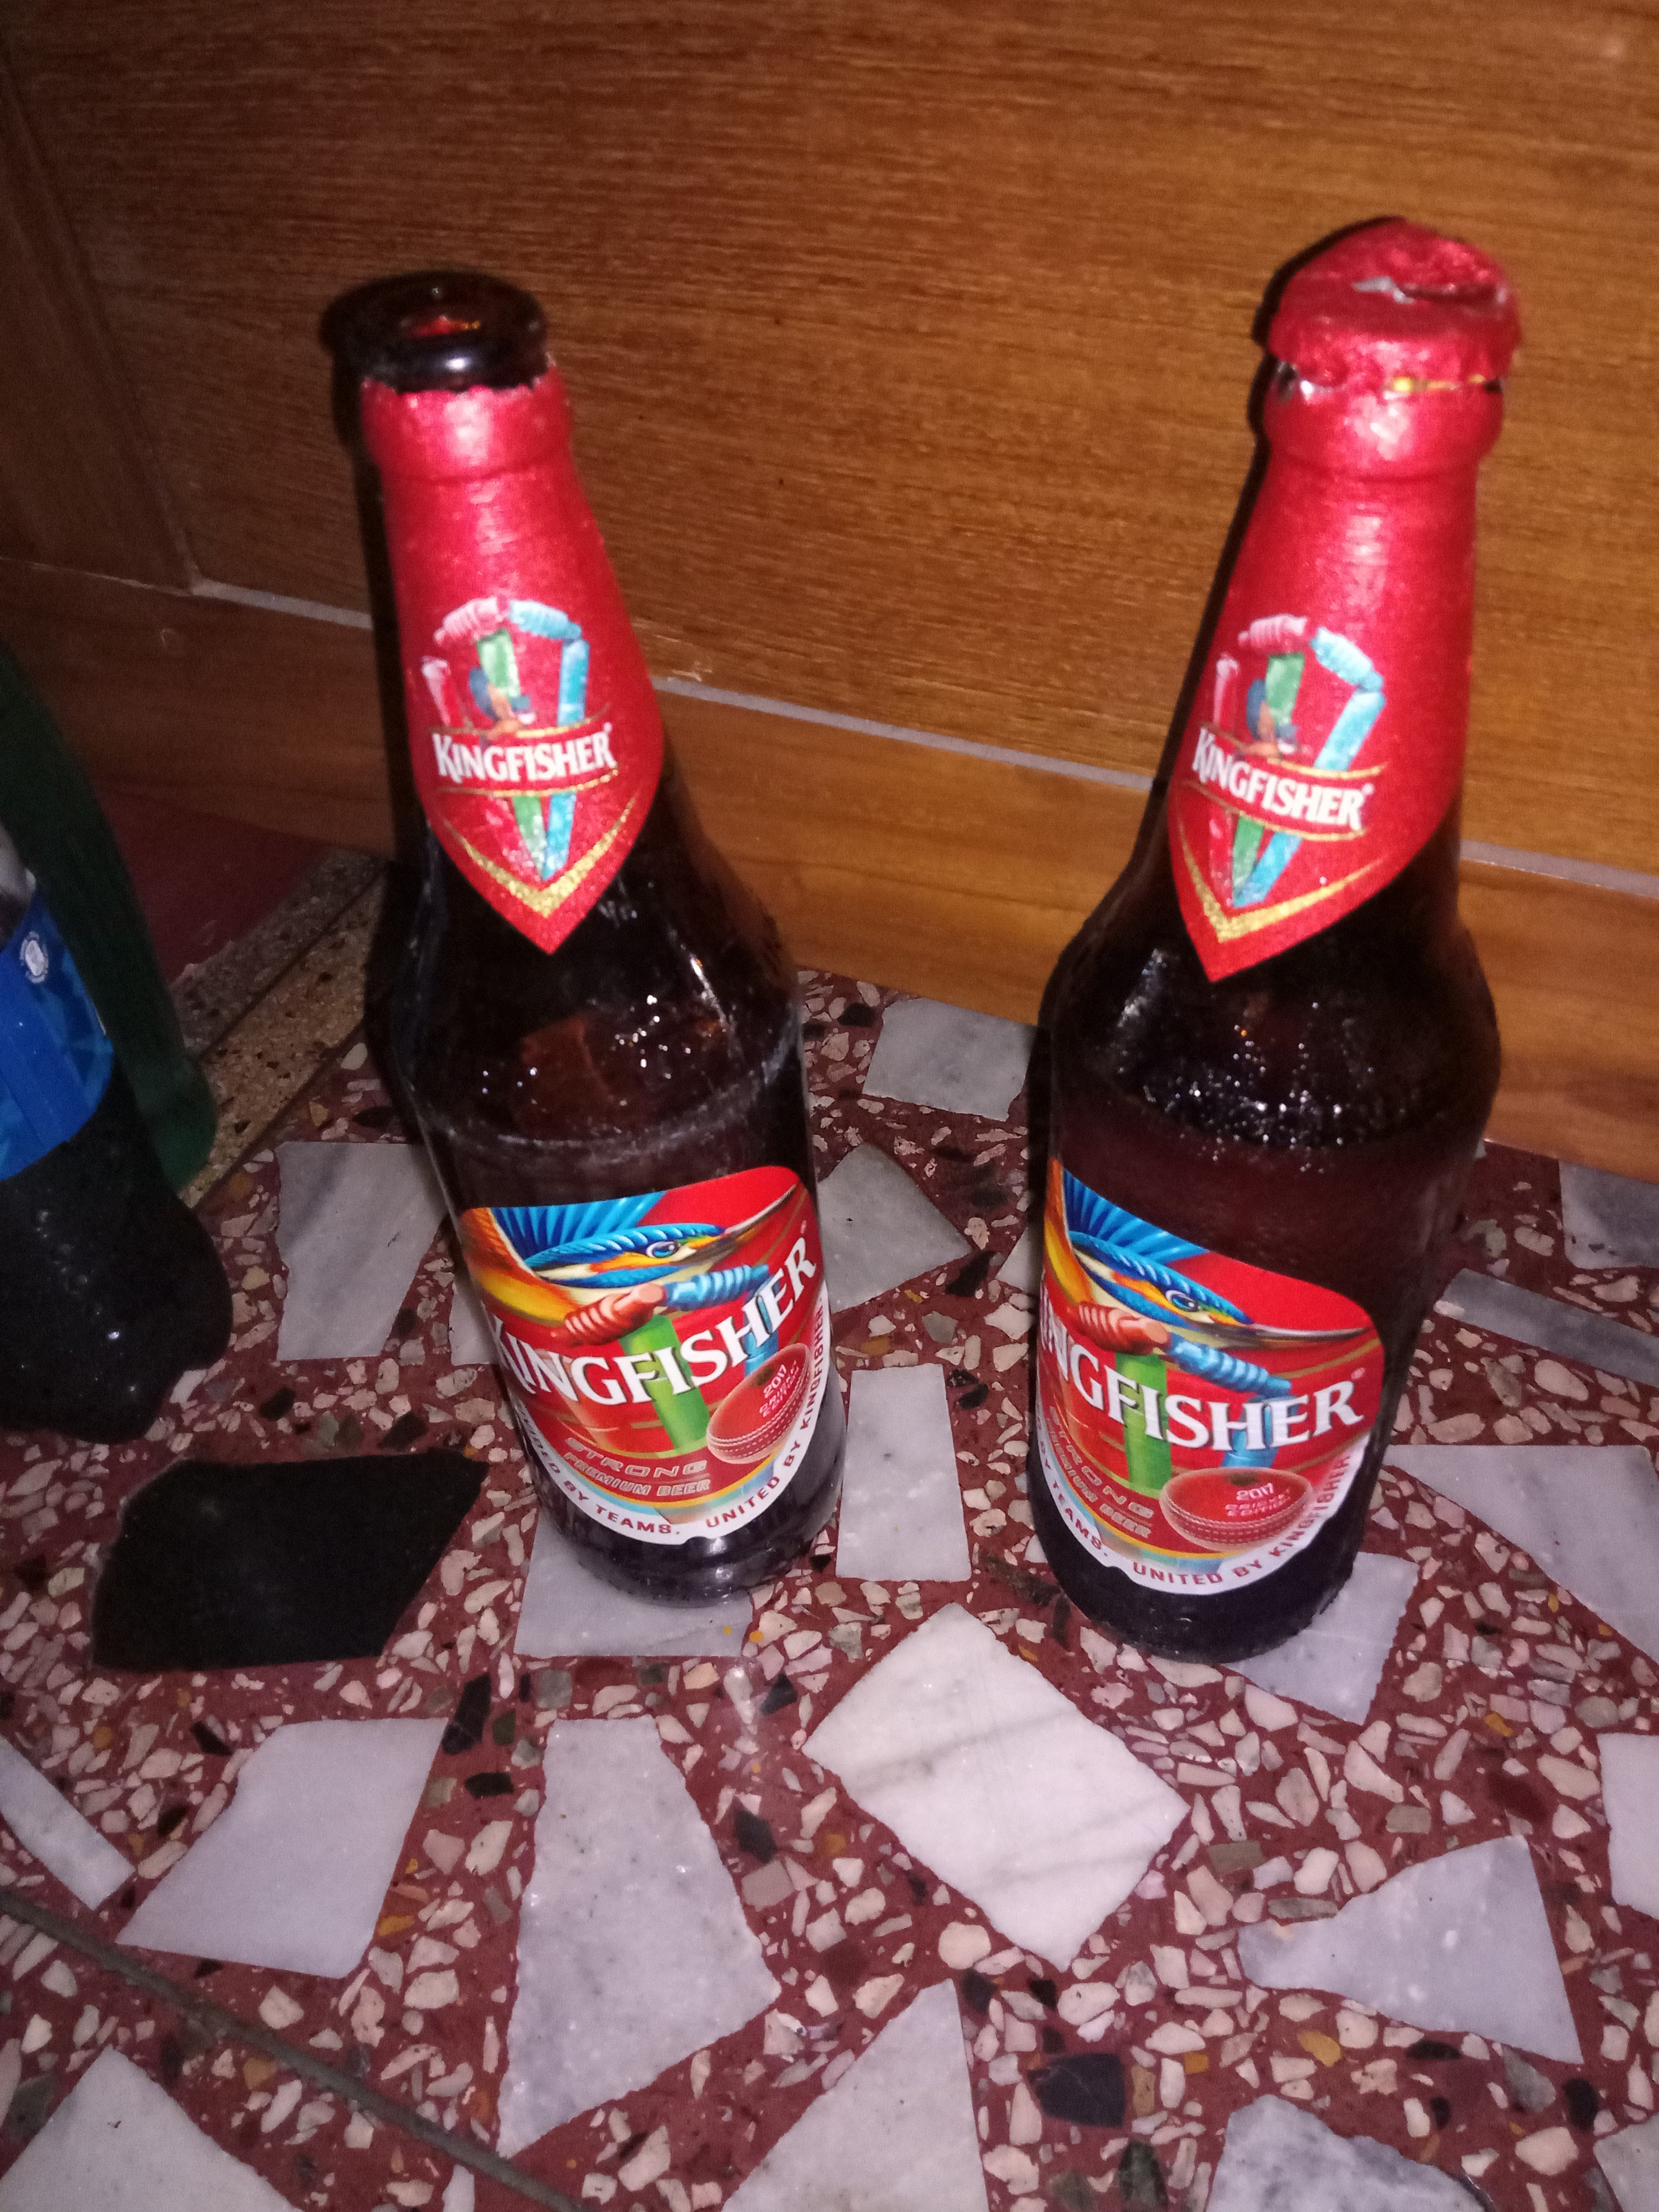glass_bottle: (284, 256, 934, 1642), (962, 190, 1551, 1693)
